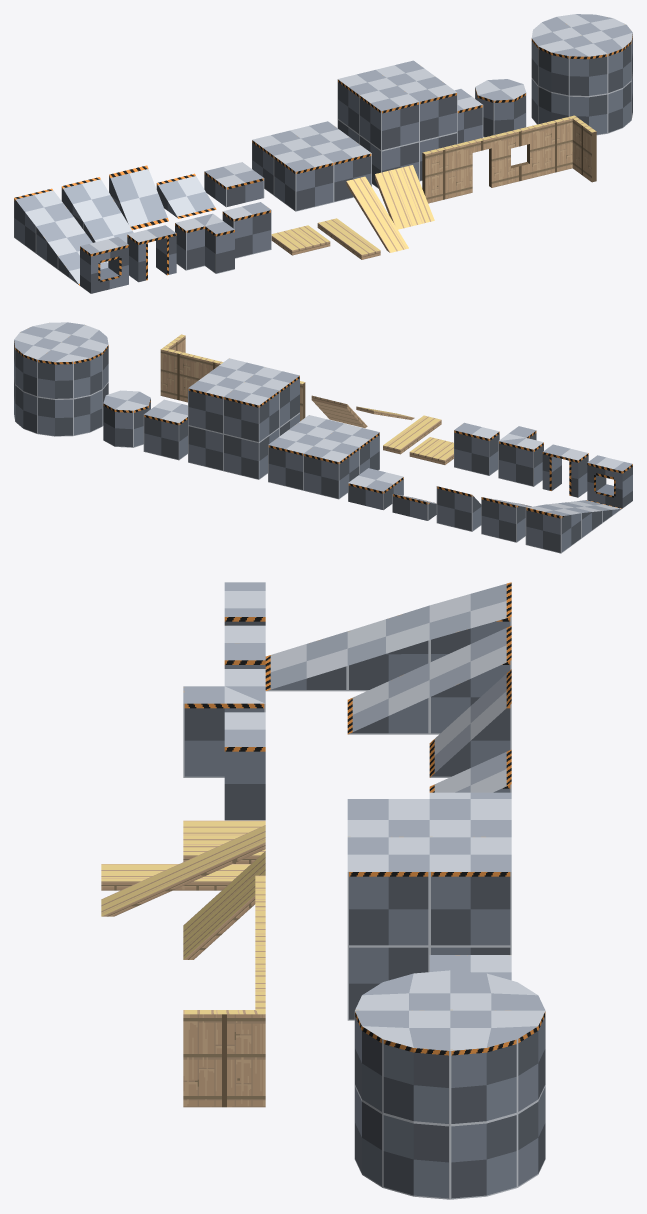
Rendered from gridmap_a.glb.
3 renders of one model, top to bottom at view 1: azimuth 30°, elevation 25°; view 2: azimuth 150°, elevation 25°; view 3: azimuth 270°, elevation 25°, orthographic. The views are drawn at different scales.
Parts seen in each view (by area): view 1: cylinder 4x4-col, cube 4x4-col, cube 2x4-col, ramp 2x3-col, wooden wall2-col, wall 2x1corner-col, ramp 2x2-col, ramp 2x1-col, wooden ramp 2x2-col, cylinder 2x2-col, wall window-col, wooden wall-col (+10 smaller); view 2: cube 4x4-col, cylinder 4x4-col, cube 2x4-col, ramp 2x3-col, cube 2x2-col, cylinder 2x2-col, wall 2x1corner-col, wall 2x1-col, wall window-col, wooden wall2-col, wall door-col, ramp 2x2-col (+7 smaller); view 3: cylinder 4x4-col, cube 4x4-col, ramp 2x3-col, ramp 2x2-col, wooden wall2-col, wall 2x1corner-col, ramp 2x1-col, wall 2x1-col, wooden ramp 4x1-col, wooden ramp 2x2-col, wooden plat 4x1-col, wooden plat1-col (+4 smaller).
Part boxes in pixels (x1,y1,x2,y2): cylinder 4x4-col: [531, 14, 632, 135]; cube 4x4-col: [337, 60, 457, 188]; cube 2x4-col: [252, 121, 371, 211]; ramp 2x3-col: [14, 188, 108, 285]; wooden wall2-col: [537, 115, 596, 182]; wall 2x1corner-col: [175, 213, 234, 273]; ramp 2x2-col: [61, 177, 133, 243]; ramp 2x1-col: [109, 165, 168, 230]; wooden ramp 2x2-col: [375, 165, 434, 229]; cylinder 2x2-col: [475, 79, 526, 137]; wall window-col: [80, 237, 128, 293]; wooden wall-col: [422, 143, 463, 203]; cube 4x4-col: [188, 358, 299, 479]; cylinder 4x4-col: [14, 322, 108, 436]; cube 2x4-col: [268, 415, 379, 499]; ramp 2x3-col: [525, 500, 622, 553]; cube 2x2-col: [143, 399, 187, 460]; cylinder 2x2-col: [103, 390, 150, 447]; wall 2x1corner-col: [498, 426, 543, 486]; wall 2x1-col: [454, 422, 499, 475]; wall window-col: [587, 455, 632, 508]; wooden wall2-col: [160, 334, 198, 402]; wall door-col: [542, 444, 588, 497]; ramp 2x2-col: [481, 497, 531, 542]; cylinder 4x4-col: [354, 970, 545, 1199]; cube 4x4-col: [347, 802, 511, 1020]; ramp 2x3-col: [265, 582, 511, 691]; ramp 2x2-col: [347, 625, 511, 734]; wooden wall2-col: [183, 979, 265, 1107]; wall 2x1corner-col: [183, 669, 265, 777]; ramp 2x1-col: [429, 669, 511, 777]; wall 2x1-col: [224, 712, 265, 820]; wooden ramp 4x1-col: [101, 825, 265, 916]; wooden ramp 2x2-col: [183, 851, 265, 959]; wooden plat 4x1-col: [101, 864, 250, 890]; wooden plat1-col: [183, 820, 265, 863].
Bounding box in the file's own units: 31.33 × 4 × 10.83.
Materials: 1 (1 with a texture image).
